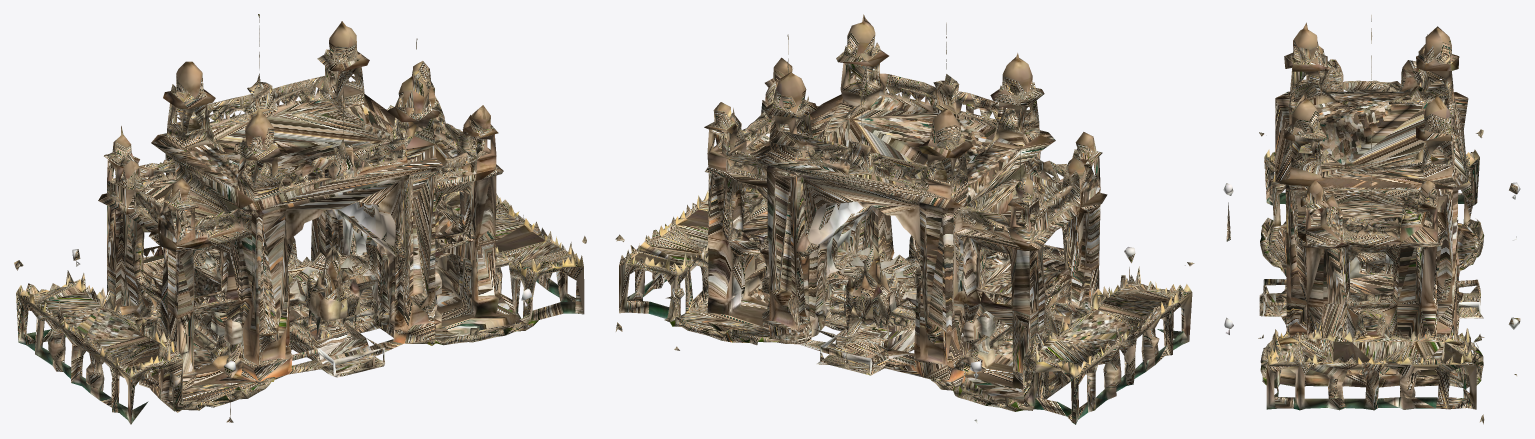
File: Gateway_of_the_Rajput.glb
3 views of the same model, side by side, from view 1: azimuth 30°, elevation 25°; view 2: azimuth 150°, elevation 25°; view 3: azimuth 270°, elevation 25° (orthographic). The views are drawn at different scales.
Visible parts, largest first — view 1: Gateway_of_the_Rajput; view 2: Gateway_of_the_Rajput; view 3: Gateway_of_the_Rajput.
Part boxes in pixels (x1=…): Gateway_of_the_Rajput: x1=14, y1=14, x2=586, y2=424; Gateway_of_the_Rajput: x1=615, y1=14, x2=1194, y2=424; Gateway_of_the_Rajput: x1=1223, y1=15, x2=1520, y2=424.
Size of the model in its own units: 1.9 by 1.17 by 1.12.
1 material, 1 textured.
